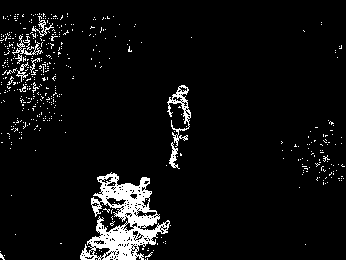person: (167, 82, 191, 174)
